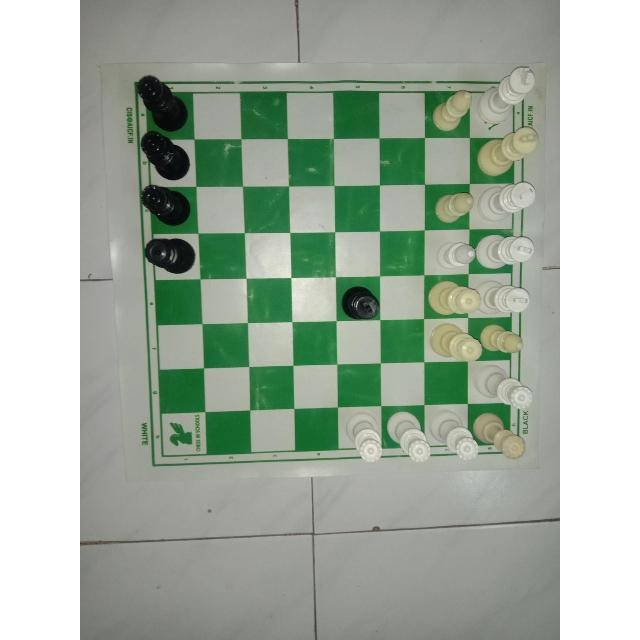black-king: (335, 284, 381, 324)
black-queen: (132, 73, 192, 128), (136, 128, 192, 179), (136, 181, 192, 225), (139, 234, 197, 274)
white-bishop: (429, 86, 473, 132), (434, 186, 474, 227), (476, 322, 524, 356), (434, 238, 476, 273)
white-king: (478, 63, 534, 128), (474, 126, 538, 178), (478, 180, 538, 224), (473, 230, 537, 270), (476, 275, 534, 317)
white-queen: (468, 362, 535, 408), (469, 407, 525, 461), (425, 409, 479, 465), (384, 409, 432, 465), (341, 409, 387, 465), (425, 323, 481, 359), (425, 279, 479, 313)
